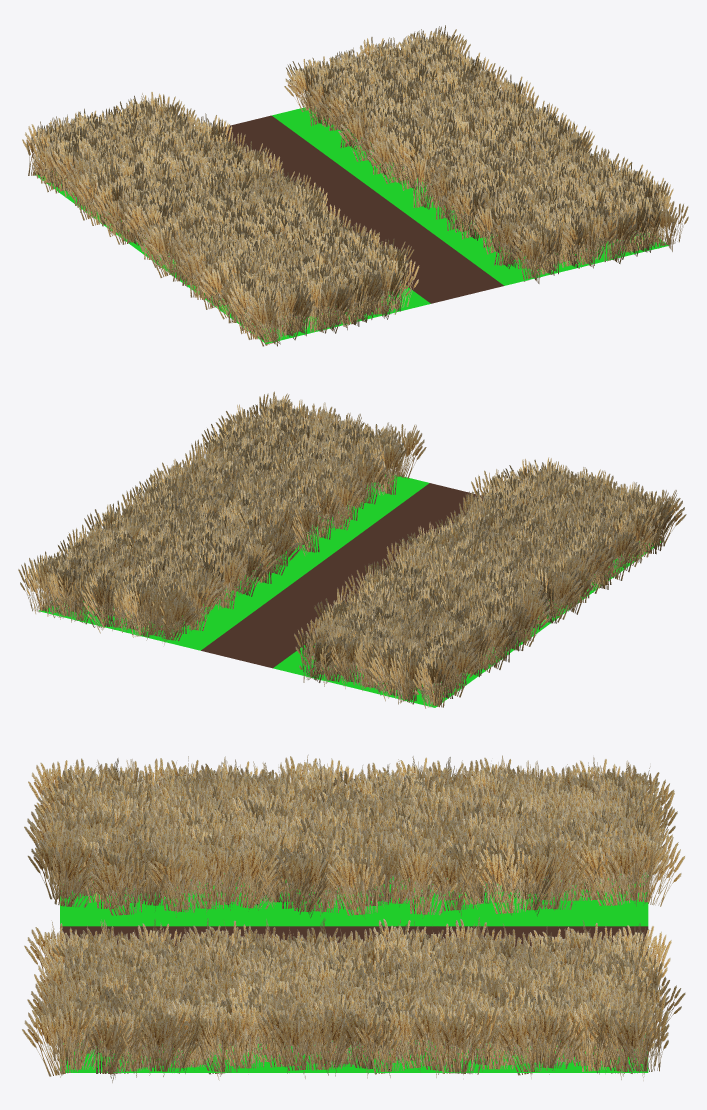
The model's file is wheat field terrain.fbx.
3 renders of one model, top to bottom at view 1: azimuth 30°, elevation 25°; view 2: azimuth 150°, elevation 25°; view 3: azimuth 270°, elevation 25°, orthographic. The views are drawn at different scales.
Parts seen in each view (by area): view 1: Plain Sides.001, Plain middle.001; view 2: Plain Sides.001, Plain middle.001; view 3: Plain Sides.001, Plain middle.001.
Part boxes in pixels (bbox=[...]): Plain Sides.001: bbox=[22, 25, 688, 346]; Plain middle.001: bbox=[221, 115, 503, 303]; Plain Sides.001: bbox=[18, 391, 686, 708]; Plain middle.001: bbox=[201, 483, 483, 668]; Plain Sides.001: bbox=[22, 754, 685, 1082]; Plain middle.001: bbox=[60, 926, 648, 956].
Size of the model in its own units: 2325 by 301 by 2308.
